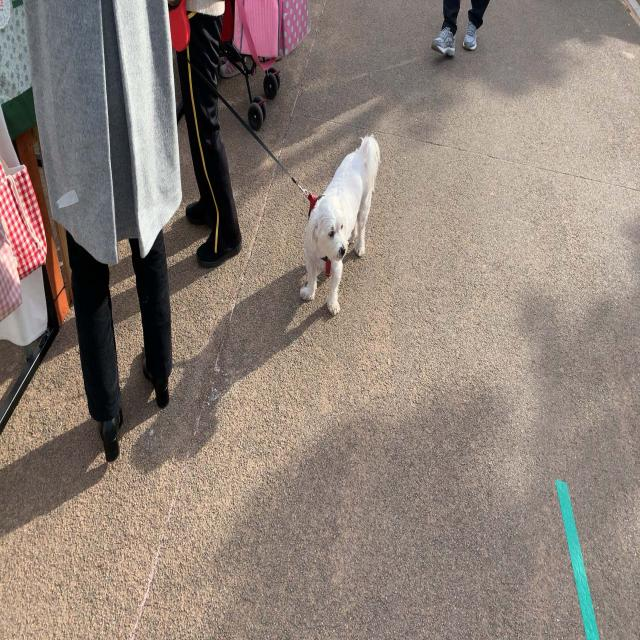Leashed_Dog: (183, 53, 382, 316)
